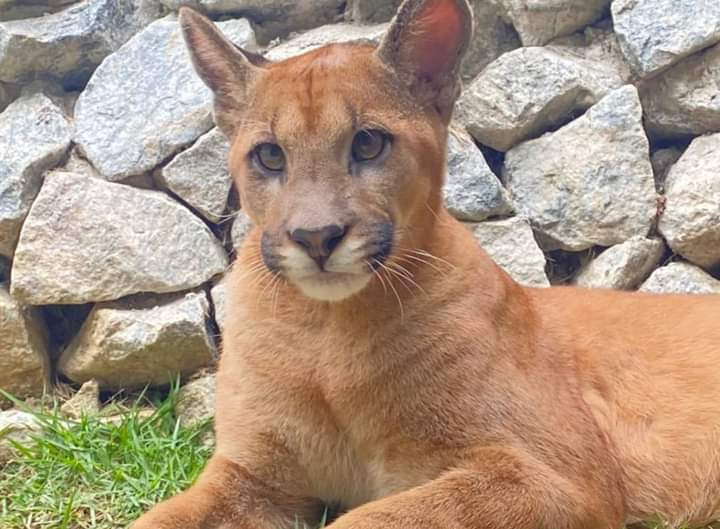OncaParda: (114, 4, 713, 523)
